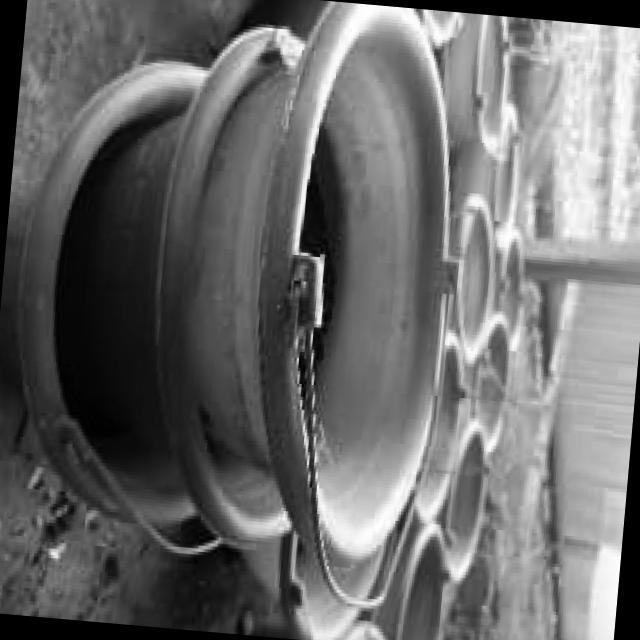HDPE Plastic: (192, 2, 469, 574), (82, 20, 306, 550), (16, 48, 206, 554)
